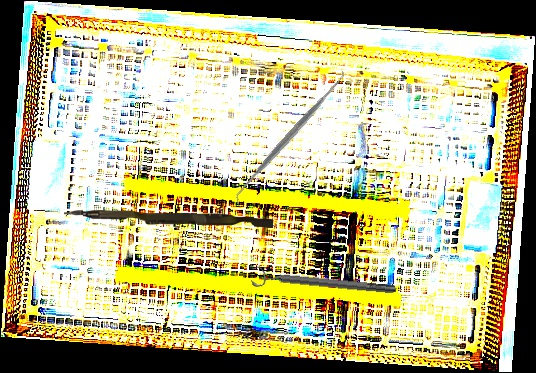Fixation Ring: (250, 264, 397, 302)
Pusher: (63, 209, 274, 228)
Spatula Surgical: (226, 68, 353, 206)
